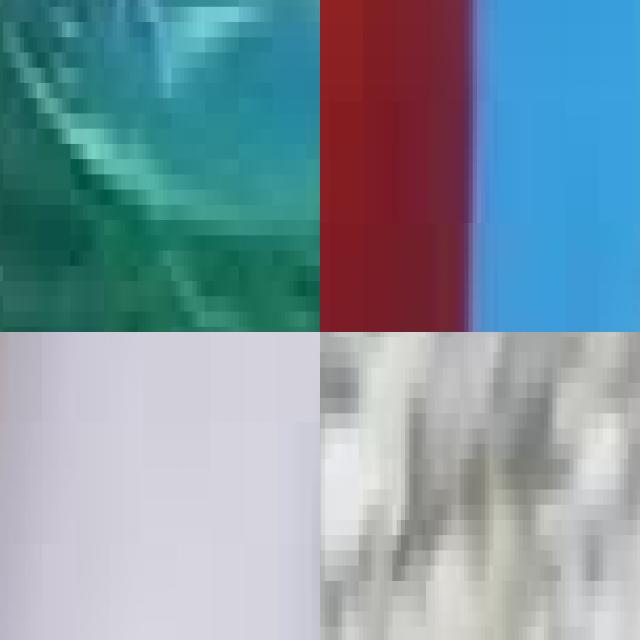fish: (0, 0, 320, 332), (320, 0, 640, 332)
